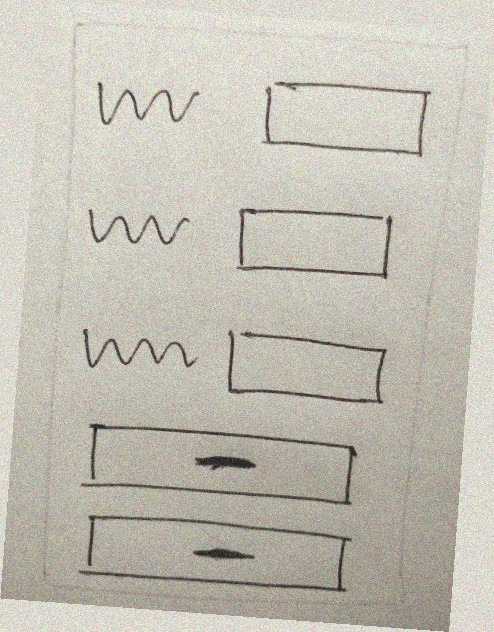button: (66, 501, 359, 603), (73, 412, 363, 515)
text: (70, 312, 208, 393), (84, 71, 206, 132), (76, 198, 197, 253)
text_input: (246, 65, 441, 175), (213, 321, 397, 419), (228, 199, 403, 290)
